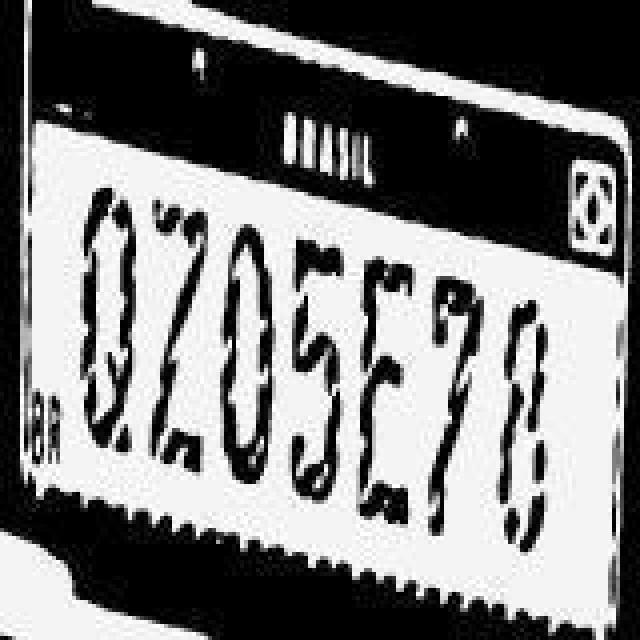5: (288, 232, 344, 504)
7: (426, 268, 486, 548)
8: (498, 294, 550, 554)
E: (354, 256, 414, 528)
O: (220, 220, 276, 484)
Q: (70, 182, 138, 458)
Z: (148, 196, 212, 476)
